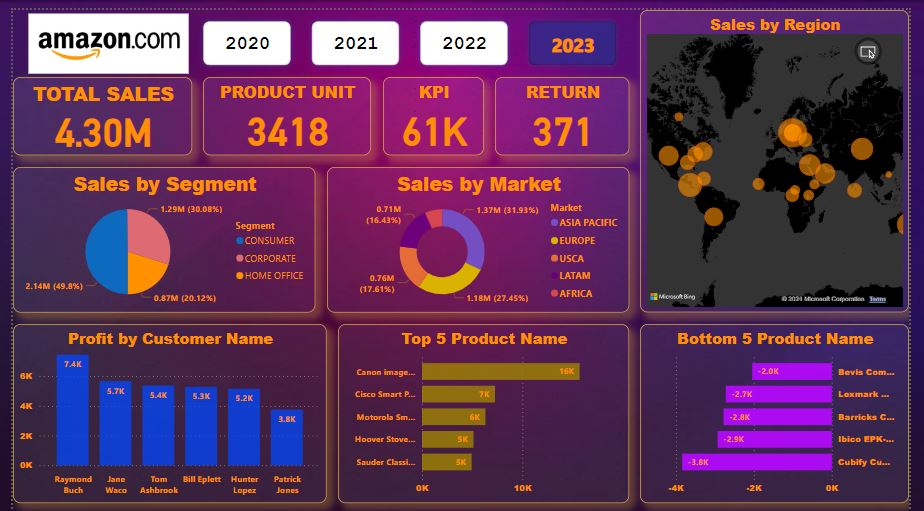

The page's visual inventory and layout, read from the dashboard file:
{"tool":"powerbi","page":{"name":"Report","canvas":[1280,720],"ordinal":0},"visuals":[{"type":"advancedSlicerVisual","fields":{"Values":["Orders.Year"]},"box":[256,0,624,96],"z":0},{"type":"card","title":"TOTAL SALES","fields":{"Values":["Orders.Sales"]},"box":[0,96,256,112],"z":1000},{"type":"card","title":"PRODUCT UNIT","fields":{"Values":["Orders.Product Name"]},"box":[272,96,240,112],"z":2000},{"type":"card","title":"KPI","fields":{"Values":["Orders.Quantity"]},"box":[528,96,144,112],"z":3000},{"type":"card","title":"RETURN","fields":{"Values":["Orders.Ship Date"]},"box":[688,96,192,112],"z":4000},{"type":"pieChart","title":"Sales by Segment","fields":{"Y":["Orders.Sales"],"Category":["Orders.Segment"]},"box":[0,224,432,208],"z":5000},{"type":"donutChart","title":"Sales by Market","fields":{"Y":["Orders.Sales"],"Category":["Orders.Market"]},"box":[448,224,432,208],"z":6000},{"type":"columnChart","title":"Profit by Customer Name","fields":{"Y":["Orders.Profit"],"Category":["Orders.Customer Name"]},"box":[0,448,448,256],"z":7000},{"type":"clusteredBarChart","title":"Top 5  Product Name","fields":{"Y":["Orders.Profit"],"Category":["Orders.Product Name"]},"box":[464,448,416,256],"z":8000},{"type":"clusteredBarChart","title":"Bottom 5 Product Name","fields":{"Y":["Orders.Profit"],"Category":["Orders.Product Name"]},"box":[896,448,384,256],"z":9000},{"type":"image","box":[0,0,272,96],"z":9001},{"type":"map","title":"Sales by Region","fields":{"Category":["Orders.Region"],"Size":["Orders.Sales"]},"box":[896,0,384,432],"z":9002}]}

Visuals, with their boxes in screenshot pixels (x1, y1, x2, y2), scaled from the page's 1280x720 canvas onto the 924x511 screenshot:
advancedSlicerVisual - Orders.Year: [x1=185, y1=0, x2=635, y2=68]
"TOTAL SALES" card: [x1=0, y1=68, x2=185, y2=148]
"PRODUCT UNIT" card: [x1=196, y1=68, x2=370, y2=148]
"KPI" card: [x1=381, y1=68, x2=485, y2=148]
"RETURN" card: [x1=497, y1=68, x2=635, y2=148]
"Sales by Segment" pieChart: [x1=0, y1=159, x2=312, y2=307]
"Sales by Market" donutChart: [x1=323, y1=159, x2=635, y2=307]
"Profit by Customer Name" columnChart: [x1=0, y1=318, x2=323, y2=500]
"Top 5  Product Name" clusteredBarChart: [x1=335, y1=318, x2=635, y2=500]
"Bottom 5 Product Name" clusteredBarChart: [x1=647, y1=318, x2=923, y2=500]
image: [x1=0, y1=0, x2=196, y2=68]
"Sales by Region" map: [x1=647, y1=0, x2=923, y2=307]
